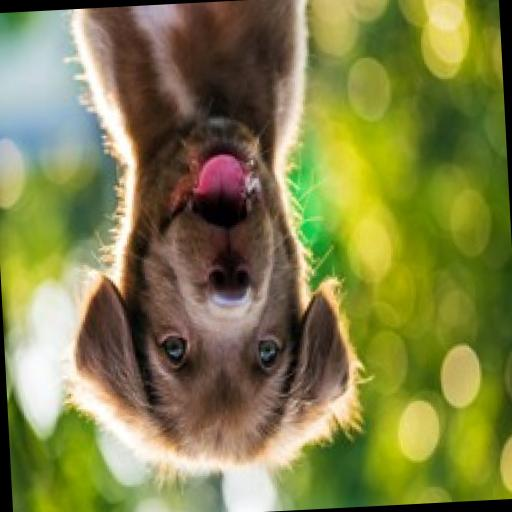dog: (32, 0, 386, 499)
